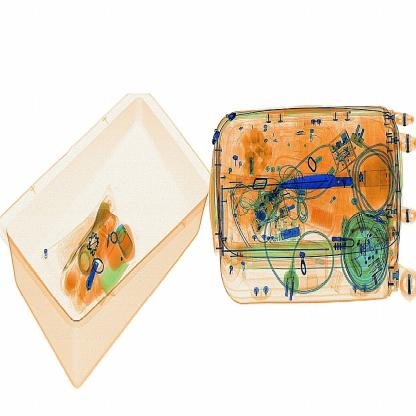wrench: (272, 170, 368, 192)
